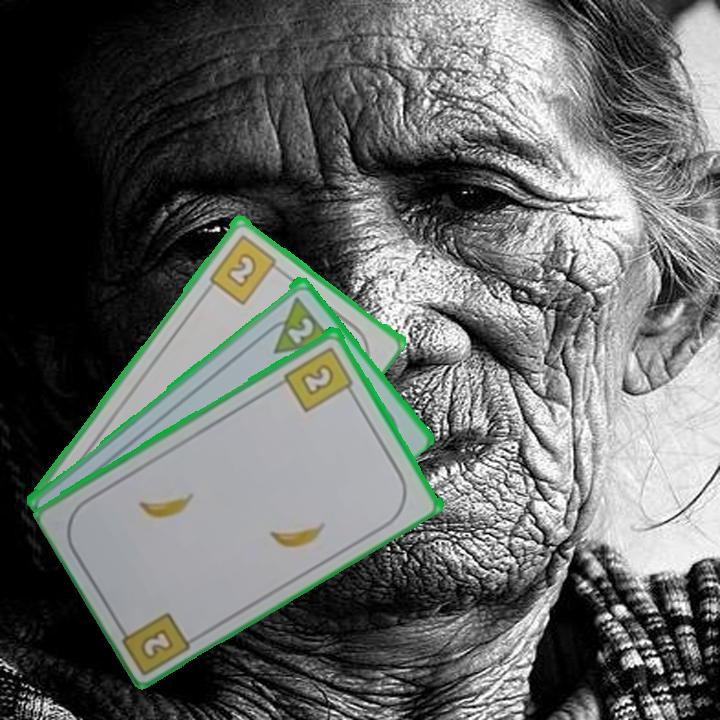2b: (205, 230, 286, 307), (281, 342, 359, 414), (140, 624, 177, 659)
2p: (257, 292, 336, 357)
